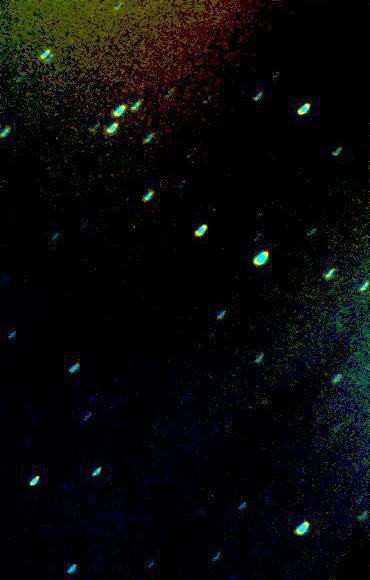star: (248, 389, 278, 419)
